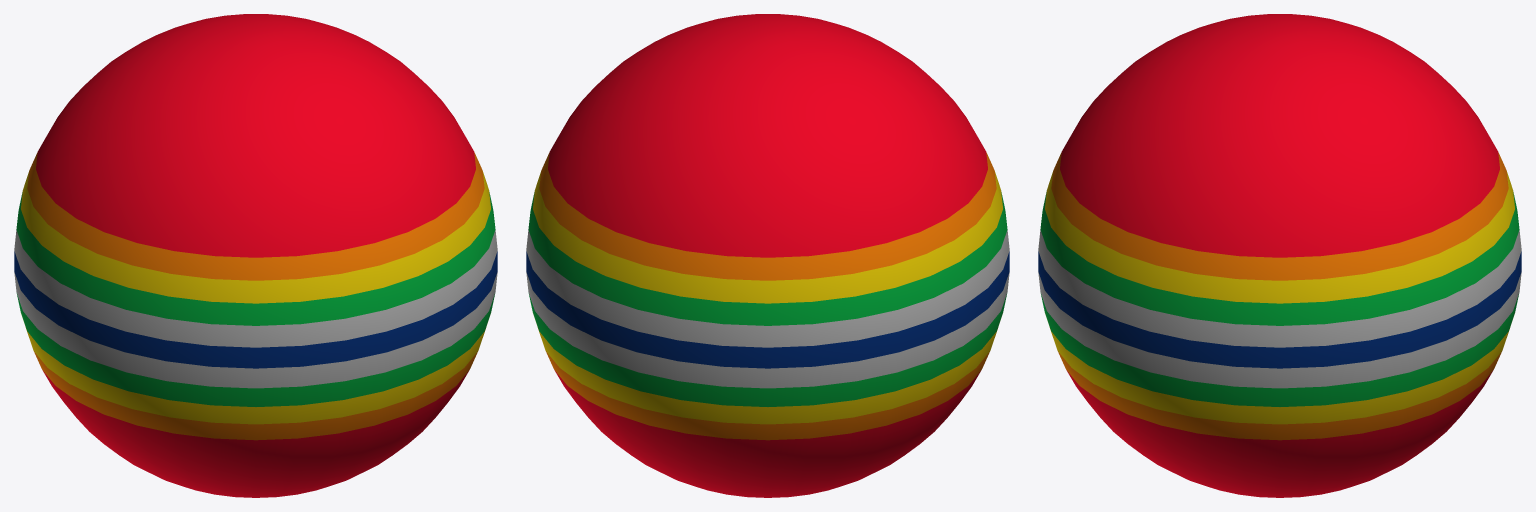
Rendered from Toy_WoolenBall.fbx.
The picture shows the model from 3 angles, left to right: view 1: azimuth 30°, elevation 25°; view 2: azimuth 150°, elevation 25°; view 3: azimuth 270°, elevation 25°; orthographic projection.
Visible parts, largest first — view 1: pSphere1; view 2: pSphere1; view 3: pSphere1.
Boxes of the visible parts, x1=… form: pSphere1: x1=14, y1=14, x2=497, y2=497; pSphere1: x1=526, y1=14, x2=1009, y2=497; pSphere1: x1=1038, y1=14, x2=1521, y2=497.
Size of the model in its own units: 1.99 by 2 by 2.
